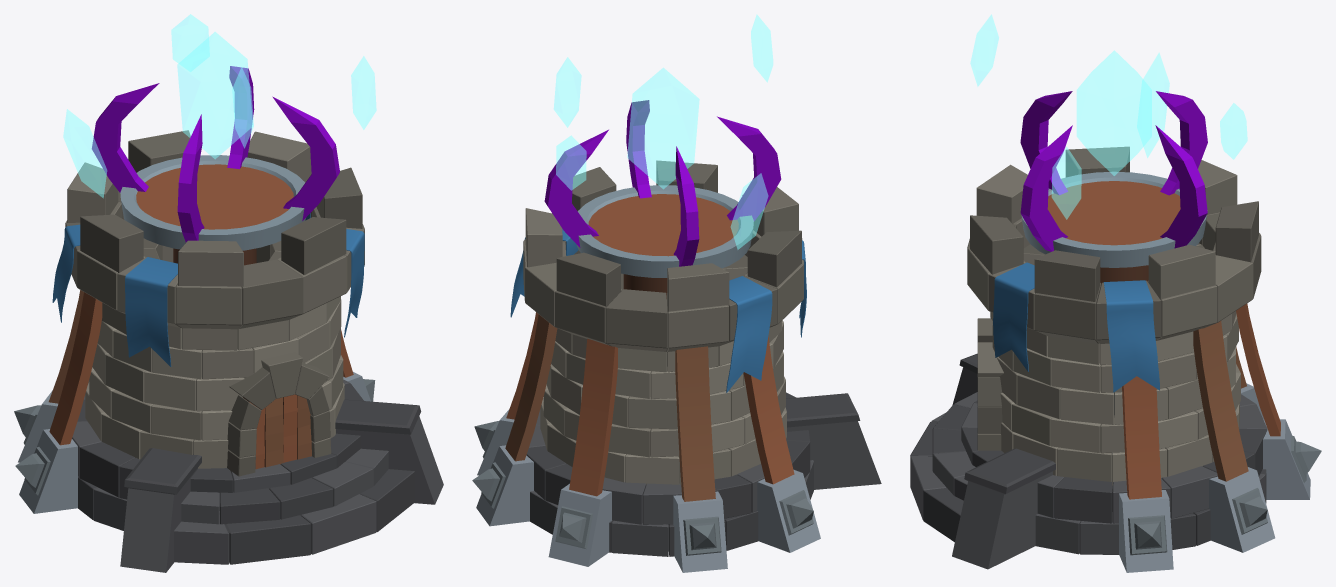
The model's file is Torre2.fbx.
The picture shows the model from 3 angles, left to right: view 1: azimuth 30°, elevation 25°; view 2: azimuth 150°, elevation 25°; view 3: azimuth 270°, elevation 25°; orthographic projection. The views are drawn at different scales.
Parts seen in each view (by area): view 1: Cube.028, Cube.030, Cube.029, Cylinder.004, Cube.027, Cube.032, Icosphere, Cube.026, Cube.040, Cube.031, Cube.039, Cube.038 (+18 smaller); view 2: Cube.030, Cube.029, Cube.027, Cylinder.004, Icosphere, Cube.032, Cube.042, Cube.046, Cube.039, Cube.025, Cube.038, Cube.037 (+20 smaller); view 3: Cube.030, Cube.027, Cube.029, Cylinder.004, Cube.031, Icosphere, Cube.028, Cube.039, Cube.038, Plane.007, Cube.044, Cube.025 (+19 smaller).
Boxes of the visible parts, x1,y1,x2,y2 form: Cube.028: (174, 448, 414, 564); Cube.030: (67, 130, 362, 288); Cube.029: (65, 182, 364, 329); Cylinder.004: (120, 155, 305, 250); Cube.027: (72, 379, 363, 530); Cube.032: (120, 448, 201, 572); Icosphere: (177, 32, 252, 159); Cube.026: (227, 352, 331, 476); Cube.040: (97, 299, 341, 379); Cube.031: (335, 399, 443, 504); Cube.039: (92, 328, 340, 411); Cube.038: (89, 355, 343, 440); Cube.030: (525, 160, 801, 311); Cube.029: (523, 230, 803, 353); Cube.027: (526, 409, 813, 556); Cylinder.004: (577, 185, 753, 277); Icosphere: (627, 67, 699, 189); Cube.032: (785, 393, 881, 489); Cube.042: (675, 346, 715, 501); Cube.046: (569, 338, 617, 496); Cube.039: (546, 351, 783, 429); Cube.025: (540, 398, 786, 484); Cube.038: (543, 376, 785, 457); Cube.037: (548, 483, 611, 566); Cube.030: (970, 146, 1258, 301); Cube.027: (961, 394, 1267, 554); Cube.029: (967, 212, 1261, 343); Cylinder.004: (1021, 171, 1207, 267); Cube.031: (952, 448, 1055, 569); Icosphere: (1076, 50, 1151, 175); Cube.028: (910, 392, 977, 542); Cube.039: (996, 347, 1235, 424); Cube.038: (1000, 364, 1240, 453); Plane.007: (1103, 280, 1159, 392); Cube.044: (1193, 321, 1248, 481); Cube.025: (1001, 403, 1239, 485).
Size of the model in its own units: 705 by 878 by 712.
